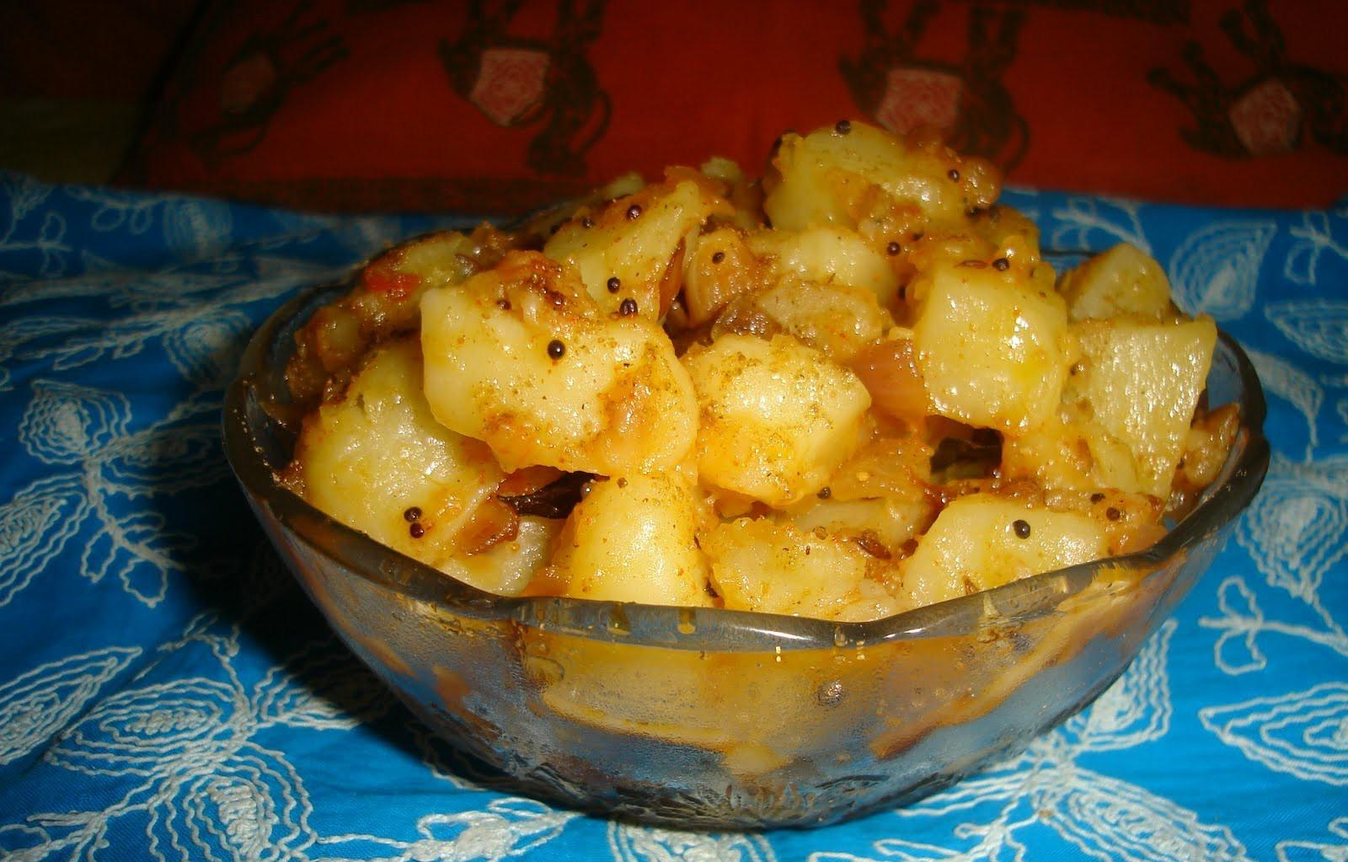AlooMasala: (282, 119, 1250, 782)
